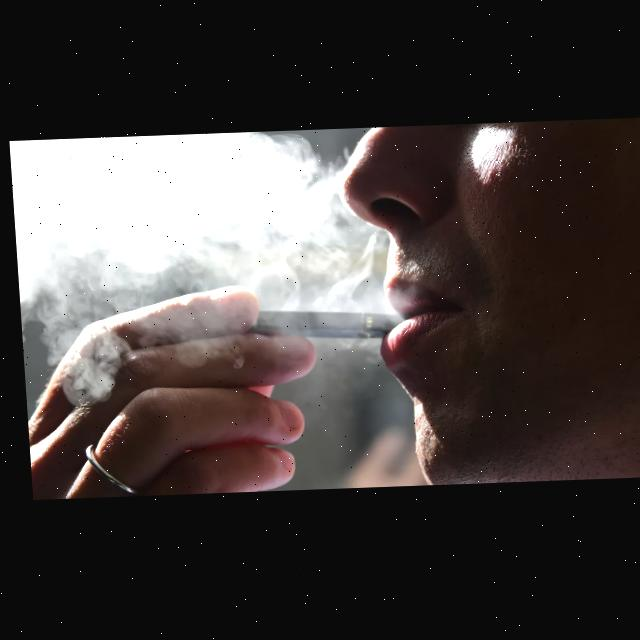vape: (244, 308, 403, 342)
